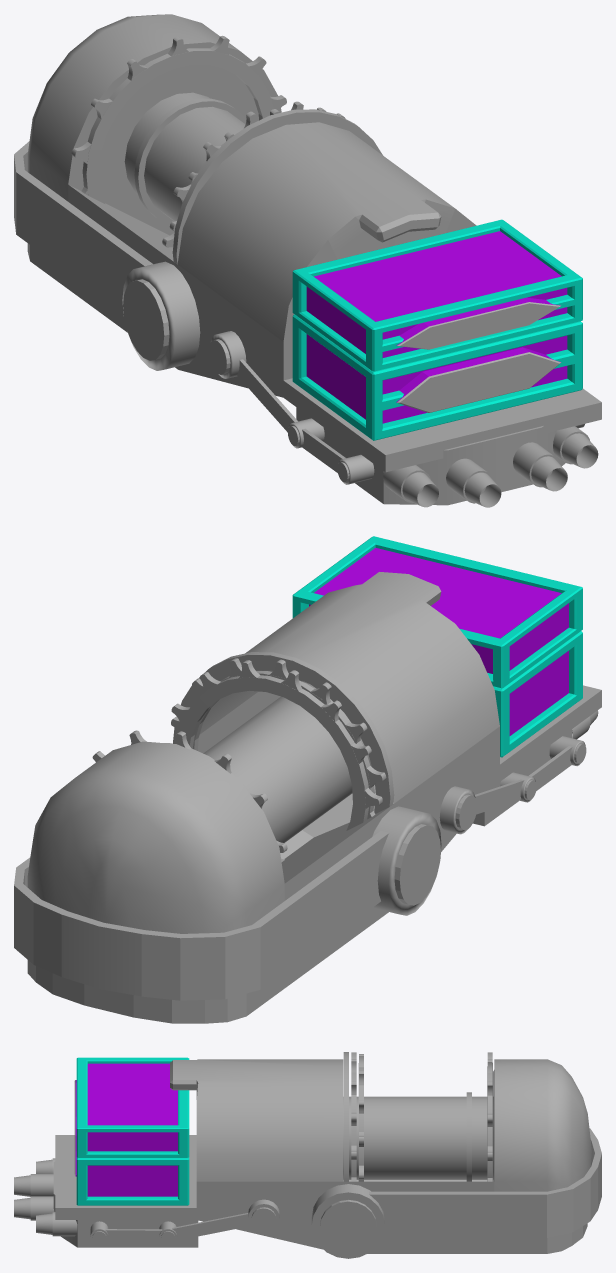
Rendered from Train.fbx.
3 renders of one model, top to bottom at view 1: azimuth 30°, elevation 25°; view 2: azimuth 150°, elevation 25°; view 3: azimuth 270°, elevation 25°, orthographic. The views are drawn at different scales.
Visible parts, largest first — view 1: Train_on_Right_Car_low; view 2: Train_on_Right_Car_low; view 3: Train_on_Right_Car_low.
Boxes of the visible parts, x1,y1,x2,y2 form: Train_on_Right_Car_low: [14, 14, 601, 507]; Train_on_Right_Car_low: [14, 536, 601, 1023]; Train_on_Right_Car_low: [14, 1052, 601, 1258].
Bounding box in the file's own units: 6.6 × 5.18 × 17.54.
